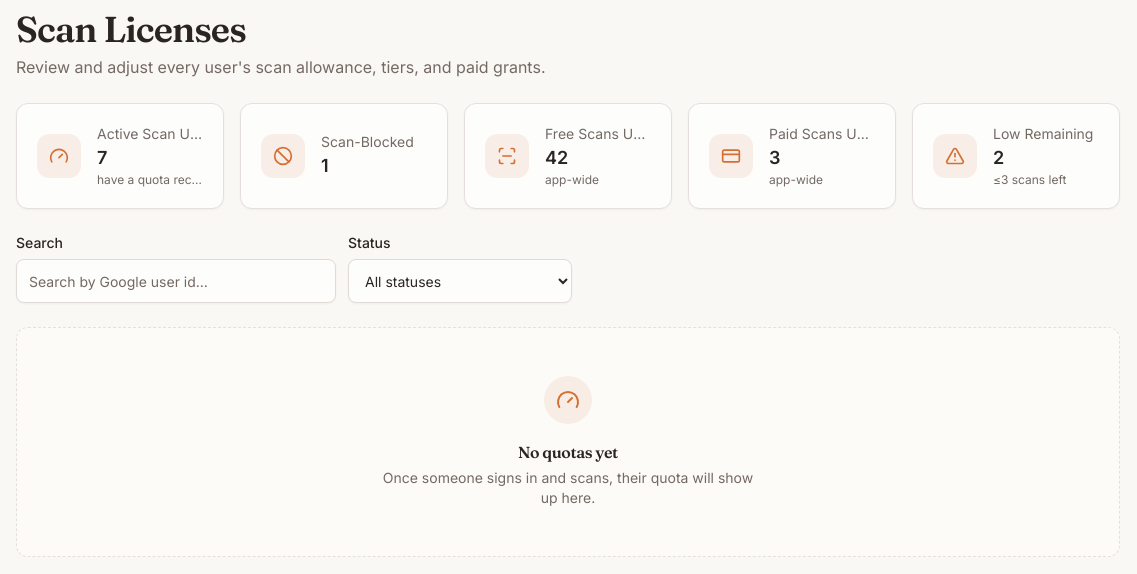
Test: AdminLicenses › clicking the Scan-Blocked stat card sets the status filter to scan_blocked
What coordinates should you click on to do the following:
click the button "Scan-Blocked 1"
I would click on:
 (344, 156)
Its box is [240,103,448,209].
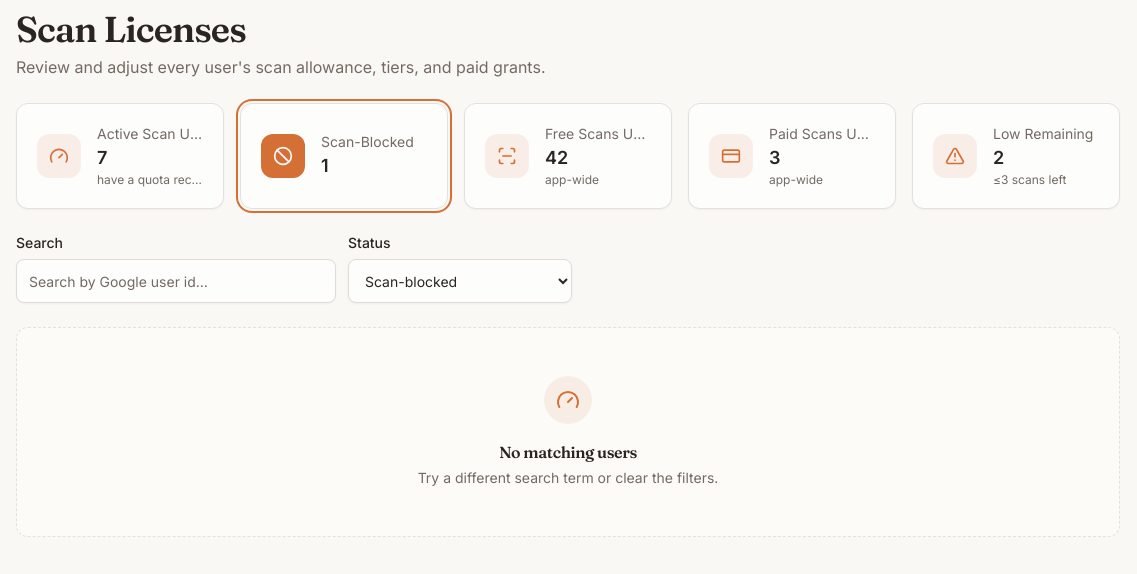
Expected: the dropdown labelled "Status" shows "Scan-blocked", [348,259,572,303]
# Clicking the same card again clears the filter back to "all".
What coordinates should you click on to do the following:
click the button "Scan-Blocked 1"
I would click on:
 (344, 156)
Its box is [240,103,448,209].
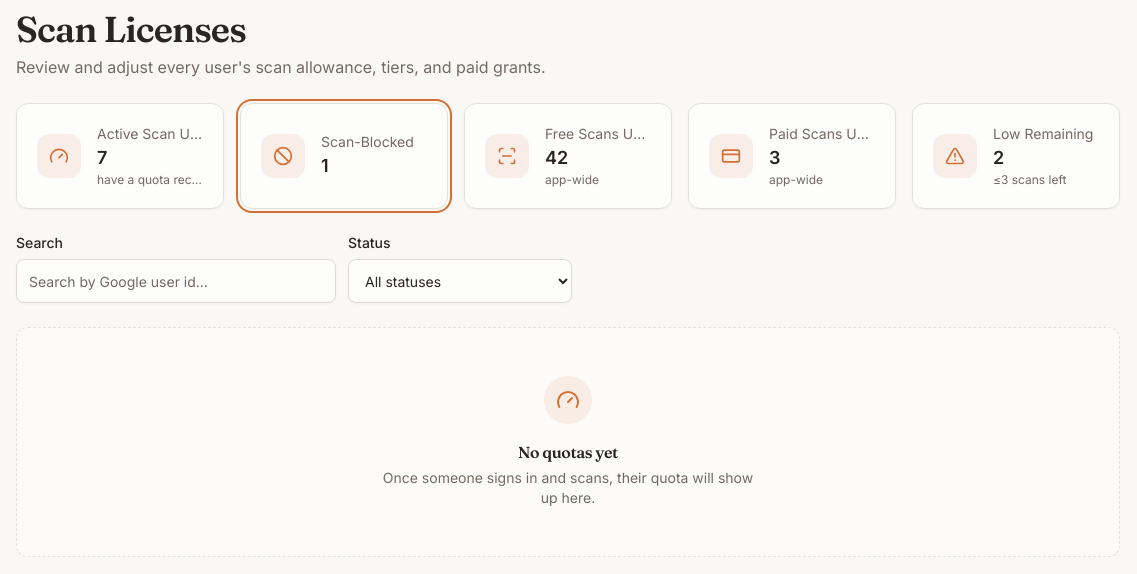
Expected: the dropdown labelled "Status" shows "All statuses", [348,259,572,303]
